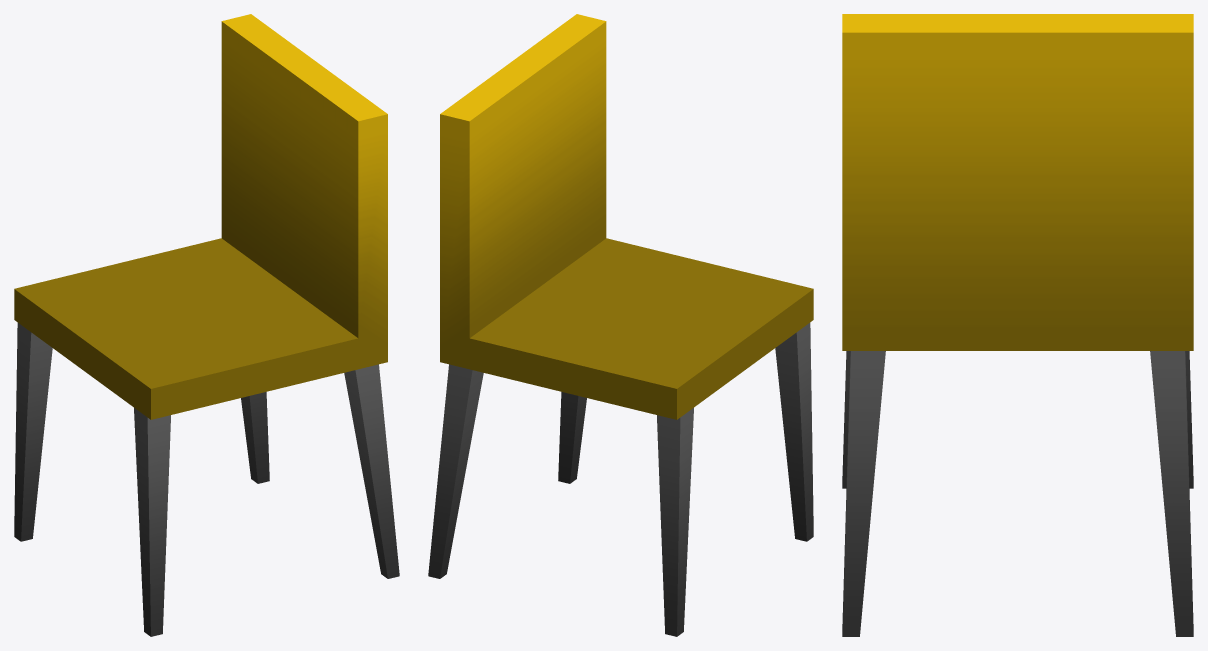
File: chair.fbx
3 renders of one model, left to right at view 1: azimuth 30°, elevation 25°; view 2: azimuth 150°, elevation 25°; view 3: azimuth 270°, elevation 25°, orthographic. The views are drawn at different scales.
Parts seen in each view (by area): view 1: Cube.003; view 2: Cube.003; view 3: Cube.003.
Part boxes in pixels (x1,y1,x2,y2): Cube.003: [14, 14, 399, 636]; Cube.003: [428, 14, 813, 636]; Cube.003: [842, 14, 1193, 636].
Size of the model in its own units: 42 by 75 by 40.
Materials: 1 (1 with a texture image).
